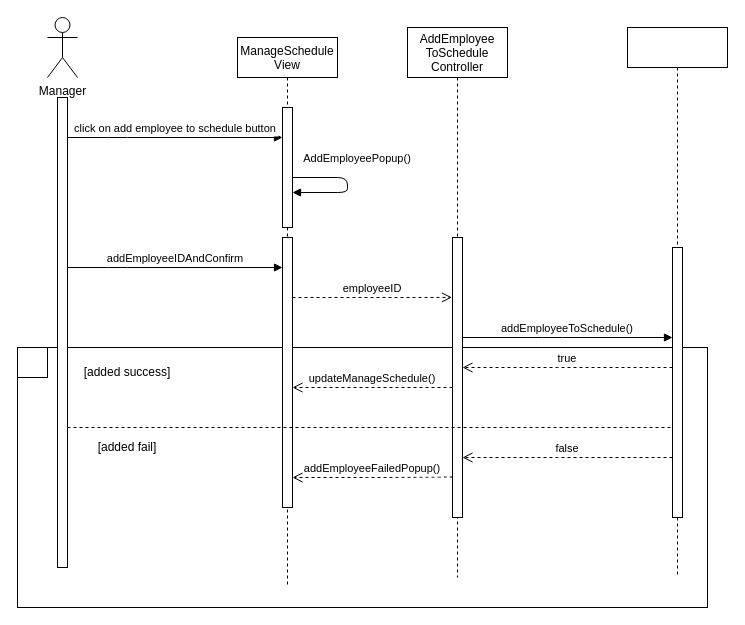
Some shapes in this 745 by 625 pixel diagram are drawn without their labels. Each missing label, with the box of its shape:
Alt: (16, 346, 48, 378)
Database: (626, 26, 728, 578)
